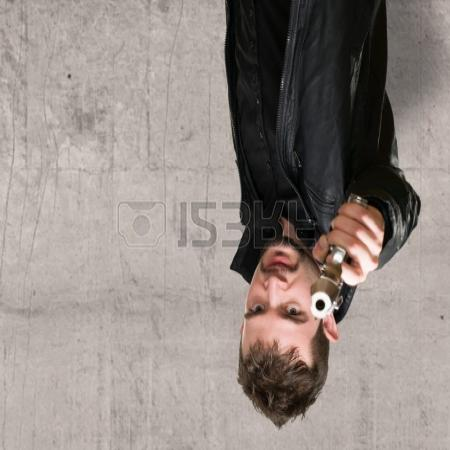Pistol: (311, 194, 371, 326)
